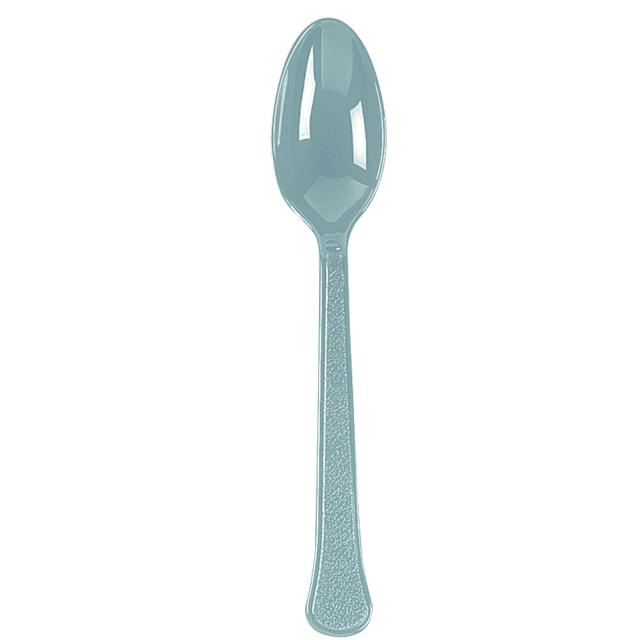spoon: (225, 0, 420, 638)
